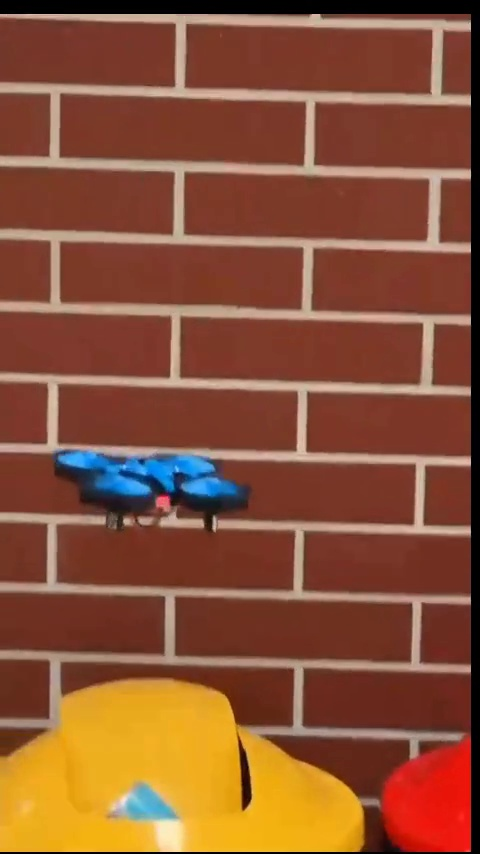drone: (54, 452, 254, 541)
